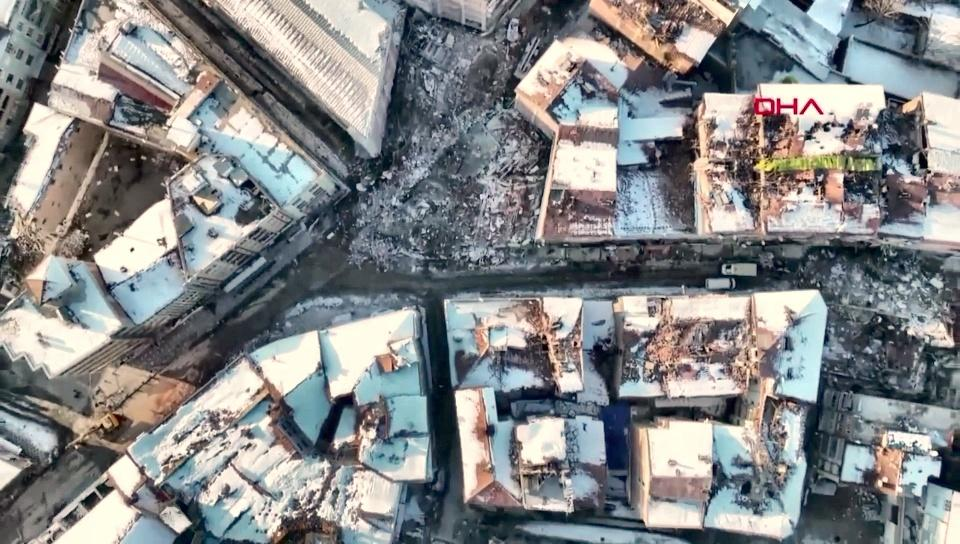kapali: (312, 0, 592, 273), (774, 259, 959, 307)
